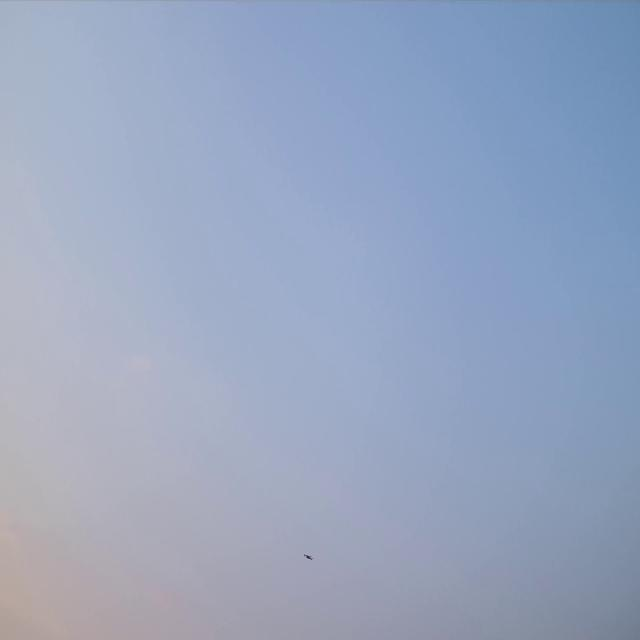UAV: (303, 553, 314, 560)
